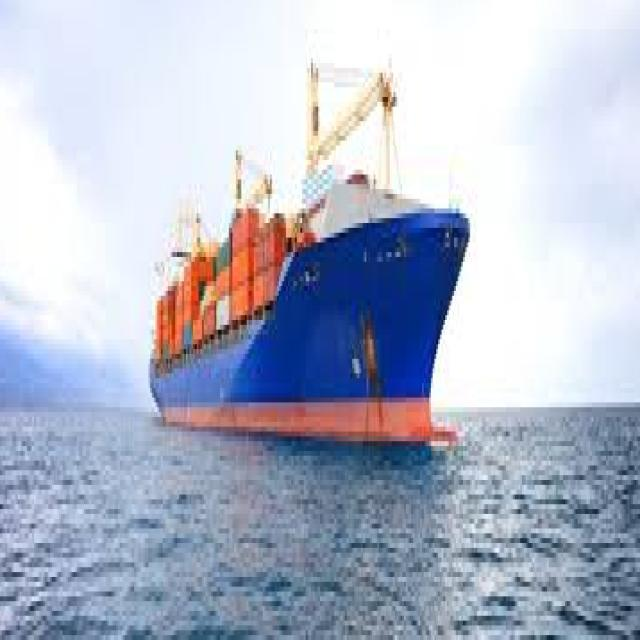cargoship: (144, 61, 470, 445)
